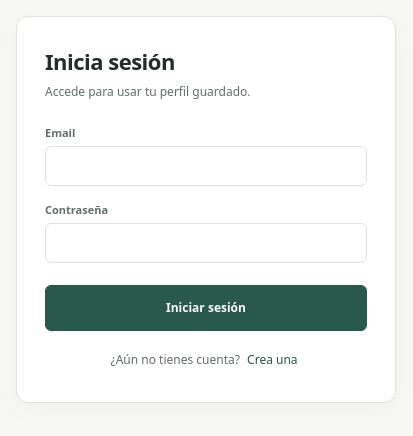
AuthScreen › shows a uniform error for invalid credentials
Expected: the heading "Inicia sesión" is shown, [45, 46, 175, 76]
Type "ana@example.com" into the field labelled "Email" at (206, 166), box [45, 146, 367, 186]
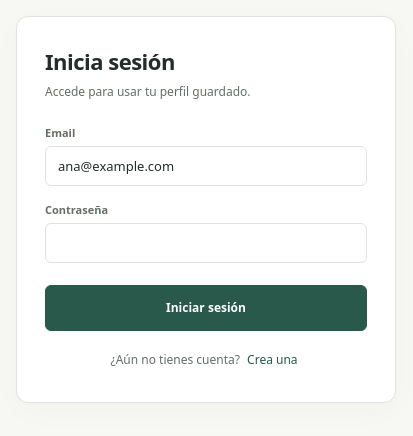
Type "wrong password here" into the password field labelled "Contraseña" at (206, 243), box [45, 223, 367, 263]
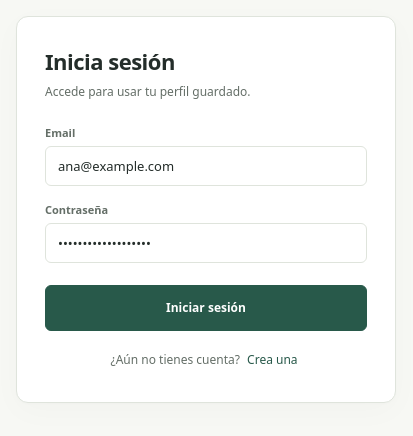
Click the button "Iniciar sesión" at (206, 308), box [45, 285, 367, 331]
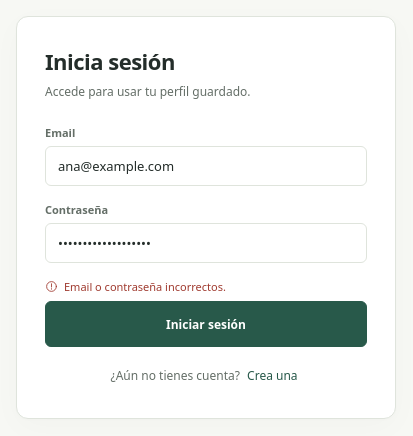
Now the message shows "incorrectos", box [64, 279, 226, 294]
